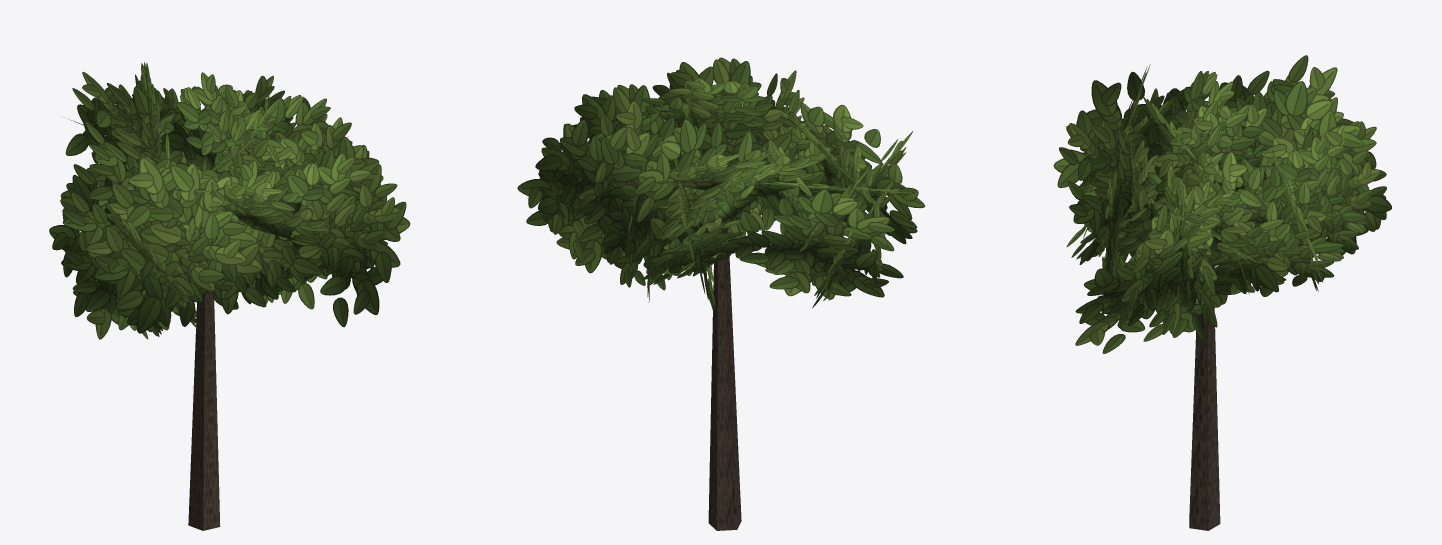
Rendered from quercia_1_leggero.glb.
The picture shows the model from 3 angles, left to right: view 1: azimuth 30°, elevation 25°; view 2: azimuth 150°, elevation 25°; view 3: azimuth 270°, elevation 25°; orthographic projection. The views are drawn at different scales.
Parts seen in each view (by area): view 1: quercia_1_leggero; view 2: quercia_1_leggero; view 3: quercia_1_leggero.
Part boxes in pixels (bbox=[...]): quercia_1_leggero: bbox=[49, 62, 410, 530]; quercia_1_leggero: bbox=[517, 57, 924, 530]; quercia_1_leggero: bbox=[1053, 55, 1391, 530].
Size of the model in its own units: 10.55 by 12.51 by 10.24.
2 materials, 2 textured.
